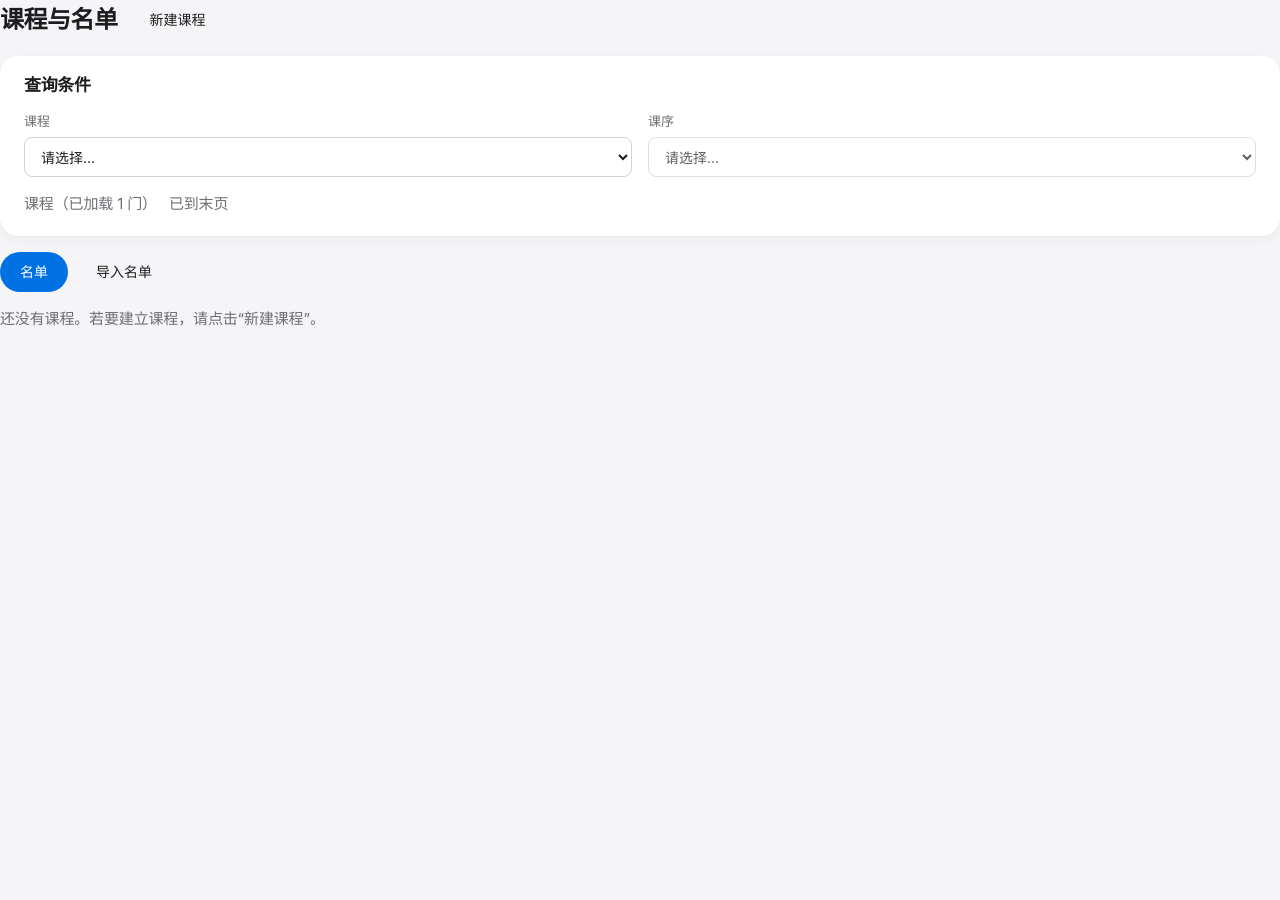
Scenario: 名单读取与编辑（RQ-B-1-20） › 并发冲突（409）给出明确提示，不静默覆盖
The image size is (1280, 900).
Select "OS-2026 · 操作系统" in the dropdown labelled "课程": (328, 157) [24,137,632,177]
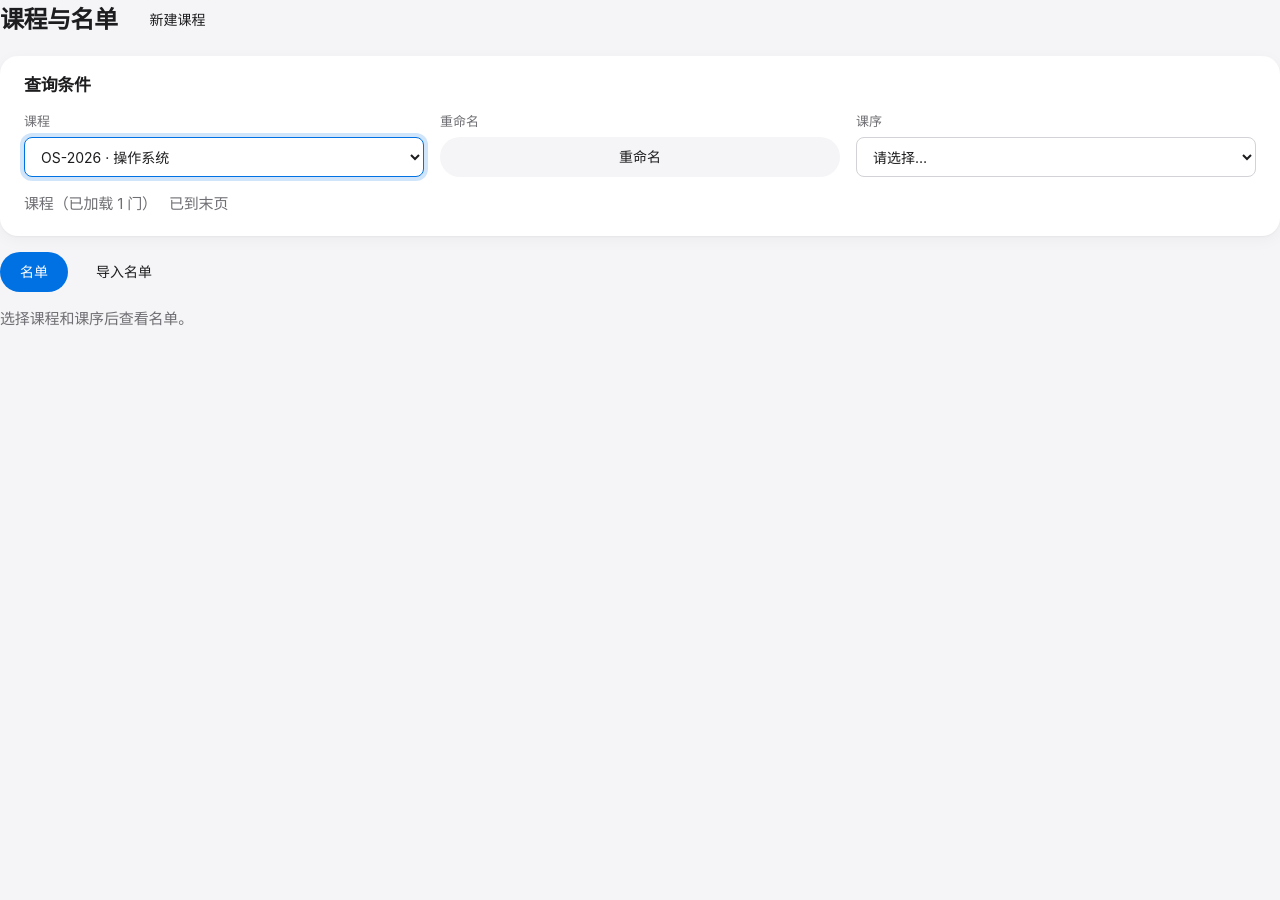
Select "01" in the dropdown labelled "课序": (1056, 157) [856,137,1256,177]
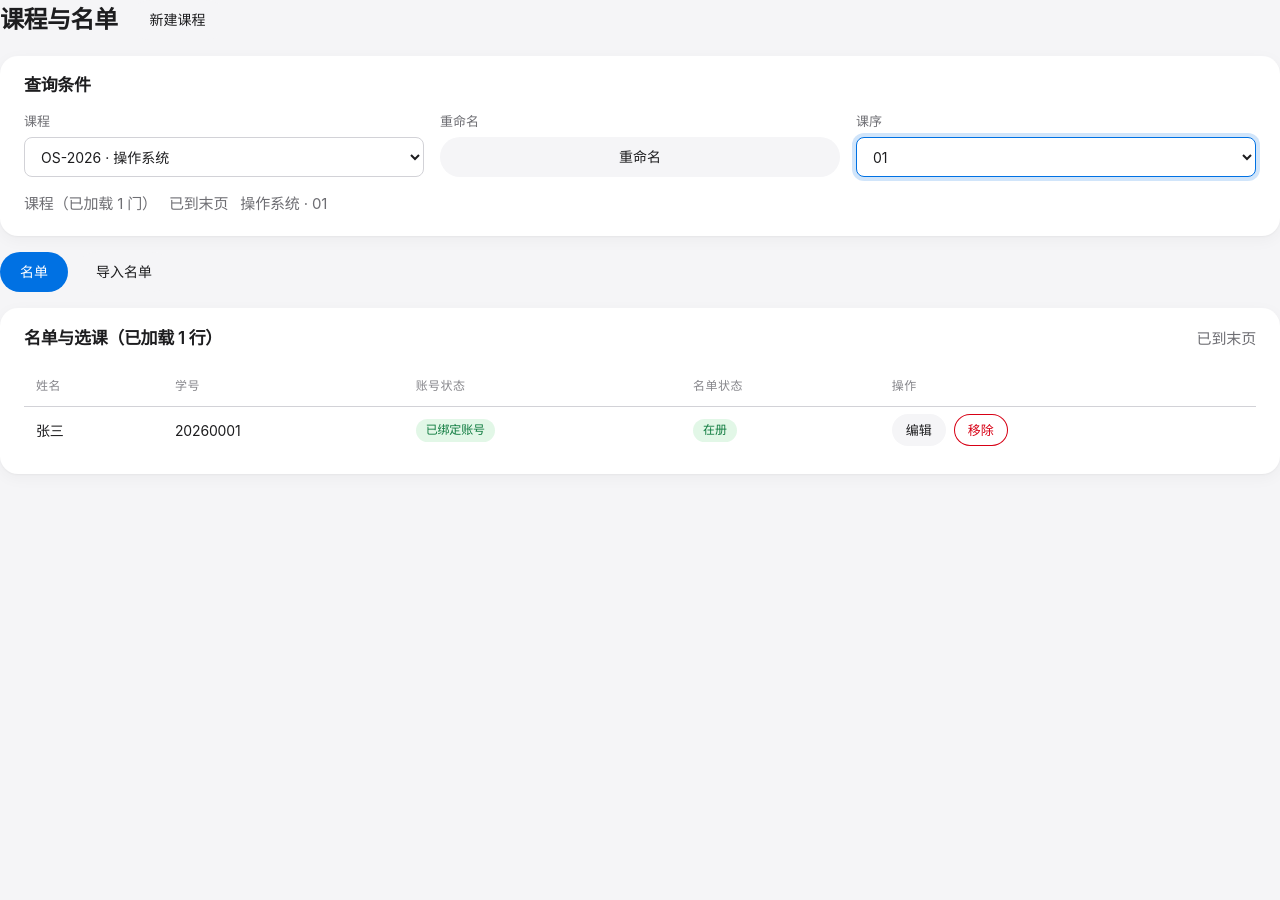
Click the button "编辑": (919, 430) [892,414,946,446]
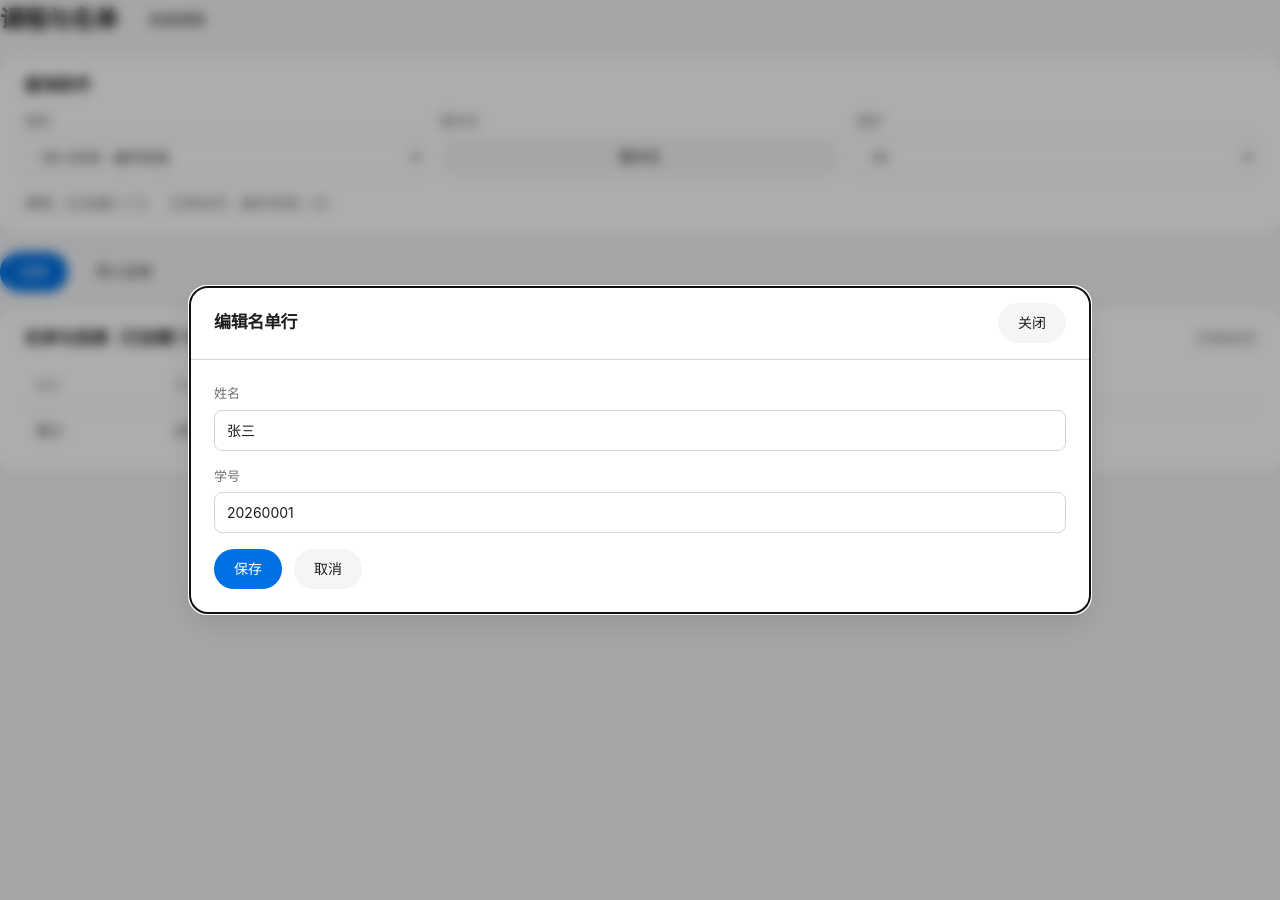
Click the button with test id "save-enrollment": (248, 569) [214,549,282,589]
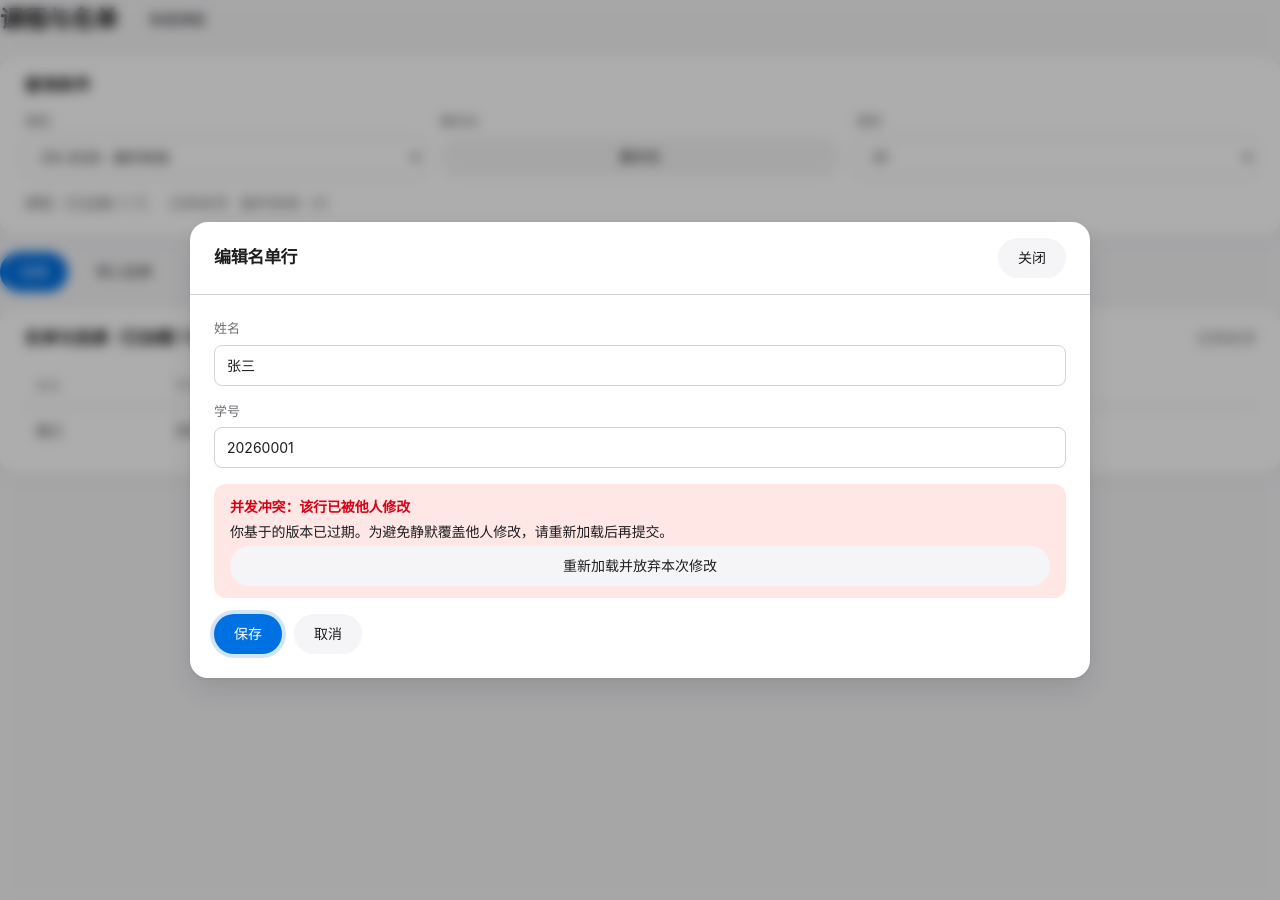
expect the message with test id "conflict-banner" shows "并发冲突": met, box [230,498,410,515]
